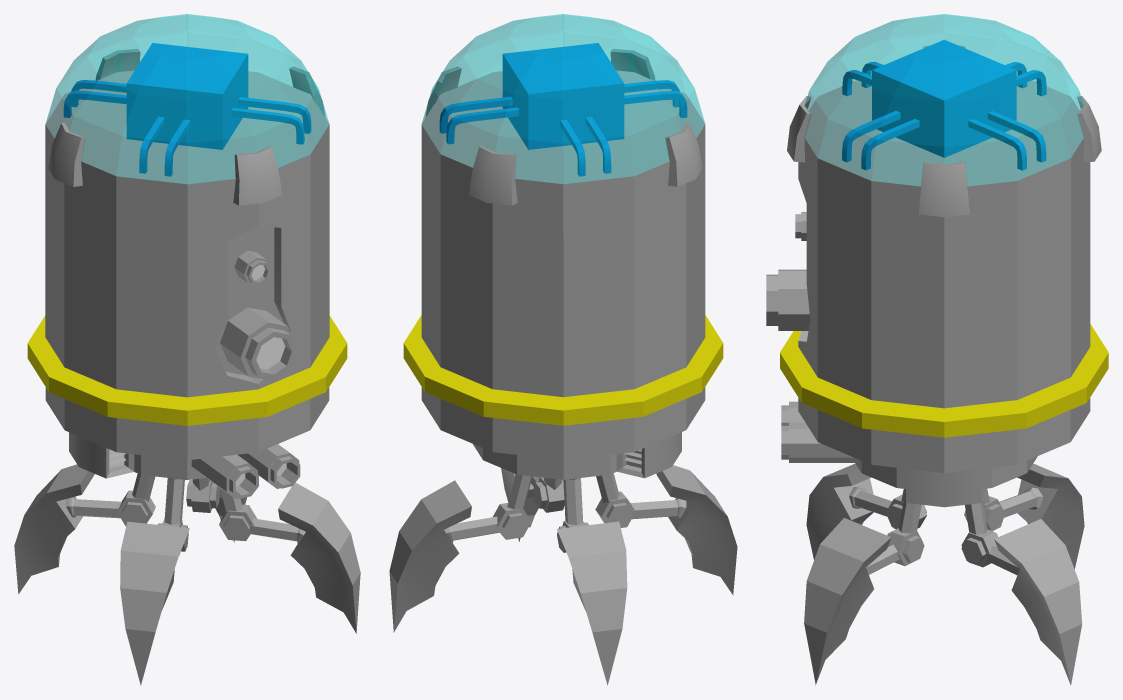
The model's file is SpiderSeperated.fbx.
3 renders of one model, left to right at view 1: azimuth 30°, elevation 25°; view 2: azimuth 150°, elevation 25°; view 3: azimuth 270°, elevation 25°, orthographic. The views are drawn at different scales.
Visible parts, largest first — view 1: pCylinder5, pSphere1, pSphere2 (×3), pCylinder6, pCube1, pCylinder7, pCylinder2, pCylinder12 (×3), pCube9, pCylinder9, pCylinder13 (×2), pCube12 (+9 smaller); view 2: pCylinder5, pSphere1, pSphere2 (×4), pCylinder7, pCylinder6, pCube1, pCylinder12 (×3), pCube11, pCylinder13 (×2), pCube12, pCube13, pCube8 (+5 smaller); view 3: pCylinder5, pSphere1, pSphere2 (×4), pCube1, pCylinder6, pCylinder7, pCylinder12 (×4), pCube13, pCube10, pCylinder2, pCylinder8, pCube8 (+7 smaller).
Boxes of the visible parts, x1,y1,x2,y2 form: pCylinder5: (45, 70, 329, 397); pSphere1: (45, 14, 329, 183); pSphere2 (×3): (14, 464, 360, 685); pCylinder6: (27, 315, 347, 425); pCube1: (126, 43, 248, 149); pCylinder7: (45, 387, 329, 479); pCylinder2: (220, 307, 296, 379); pCylinder12 (×3): (117, 480, 257, 541); pCube9: (233, 146, 282, 205); pCylinder9: (191, 454, 258, 498); pCylinder13 (×2): (66, 497, 305, 543); pCube12: (48, 123, 85, 186); pCylinder5: (421, 70, 705, 397); pSphere1: (422, 14, 704, 183); pSphere2 (×4): (389, 465, 737, 685); pCylinder7: (421, 387, 705, 479); pCylinder6: (403, 315, 723, 425); pCube1: (502, 43, 624, 149); pCylinder12 (×3): (493, 477, 634, 539); pCube11: (468, 146, 517, 205); pCylinder13 (×2): (444, 498, 686, 542); pCube12: (665, 123, 702, 186); pCube13: (616, 432, 681, 478); pCube8: (439, 96, 519, 144); pCylinder5: (798, 74, 1090, 408); pSphere1: (805, 14, 1083, 186); pSphere2 (×4): (804, 463, 1084, 685); pCube1: (872, 39, 1016, 157); pCylinder6: (780, 324, 1108, 437); pCylinder7: (798, 398, 1090, 488); pCylinder12 (×4): (886, 494, 1004, 567); pCube13: (906, 468, 982, 507); pCube10: (918, 161, 970, 217); pCylinder2: (766, 269, 810, 330); pCylinder8: (781, 422, 858, 462); pCube8: (968, 111, 1046, 170).
Size of the model in its own units: 0.7544 by 1.52 by 0.7858.
